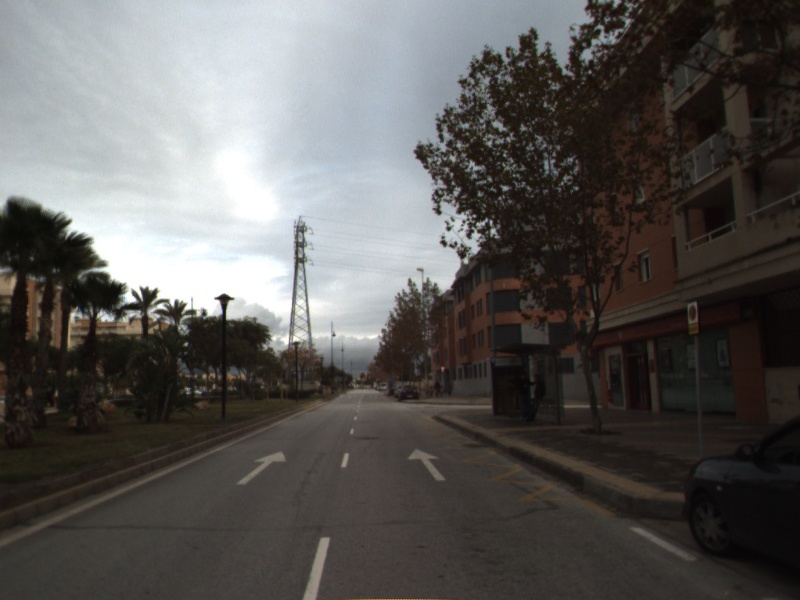STRAIGHT: (235, 449, 289, 487), (406, 446, 448, 482)
